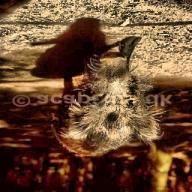boar: (52, 36, 164, 158)
